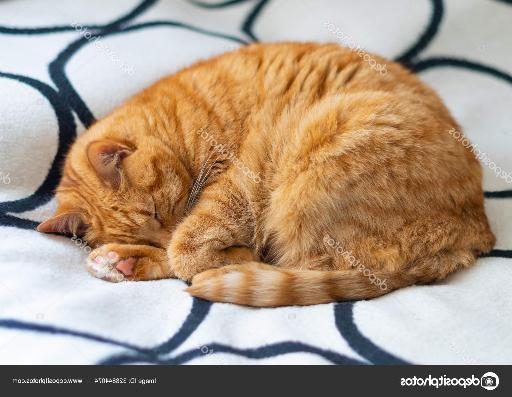cat_sleeping: (37, 42, 495, 307)
